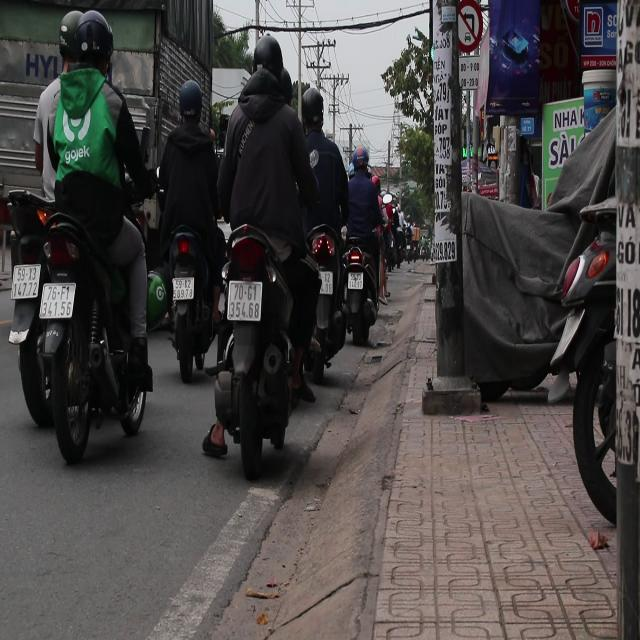motorbike: (2, 180, 153, 454), (206, 223, 314, 473), (304, 222, 382, 374), (146, 217, 218, 381), (338, 216, 386, 352)
